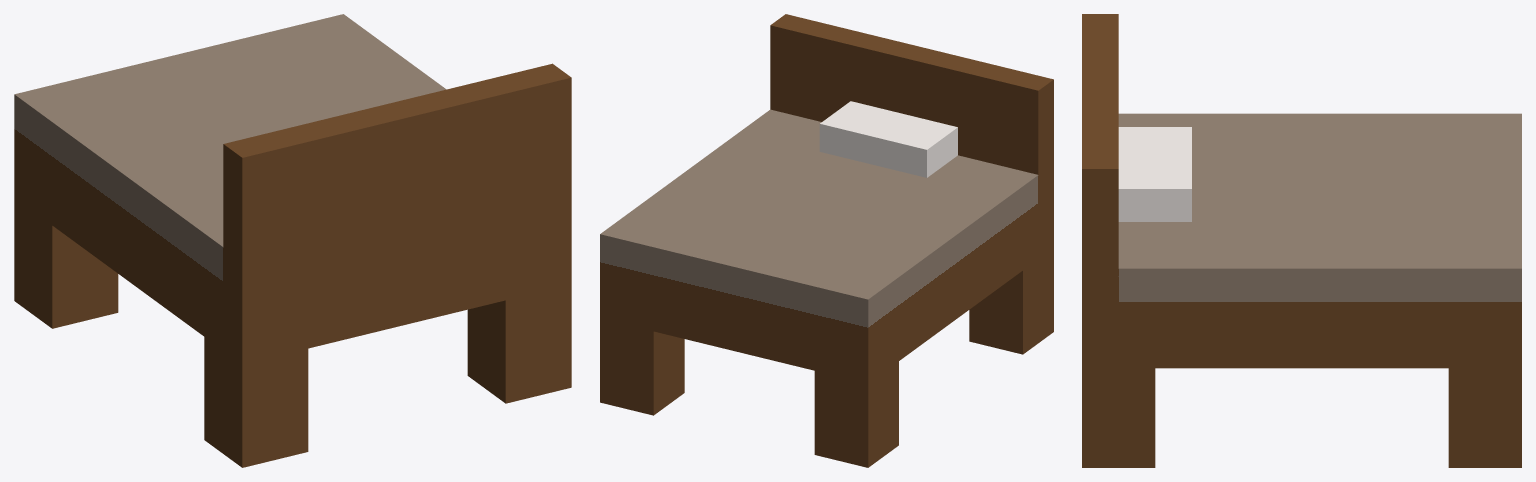
The model's file is cama.obj.
3 views of the same model, side by side, from view 1: azimuth 30°, elevation 25°; view 2: azimuth 150°, elevation 25°; view 3: azimuth 270°, elevation 25° (orthographic). The views are drawn at different scales.
Parts seen in each view (by area): view 1: Model; view 2: Model; view 3: Model.
Part boxes in pixels (bbox=[...]): Model: bbox=[14, 14, 571, 467]; Model: bbox=[600, 14, 1053, 467]; Model: bbox=[1082, 14, 1521, 467].
Size of the model in its own units: 26.67 by 24 by 32.
Materials: 1 (1 with a texture image).
